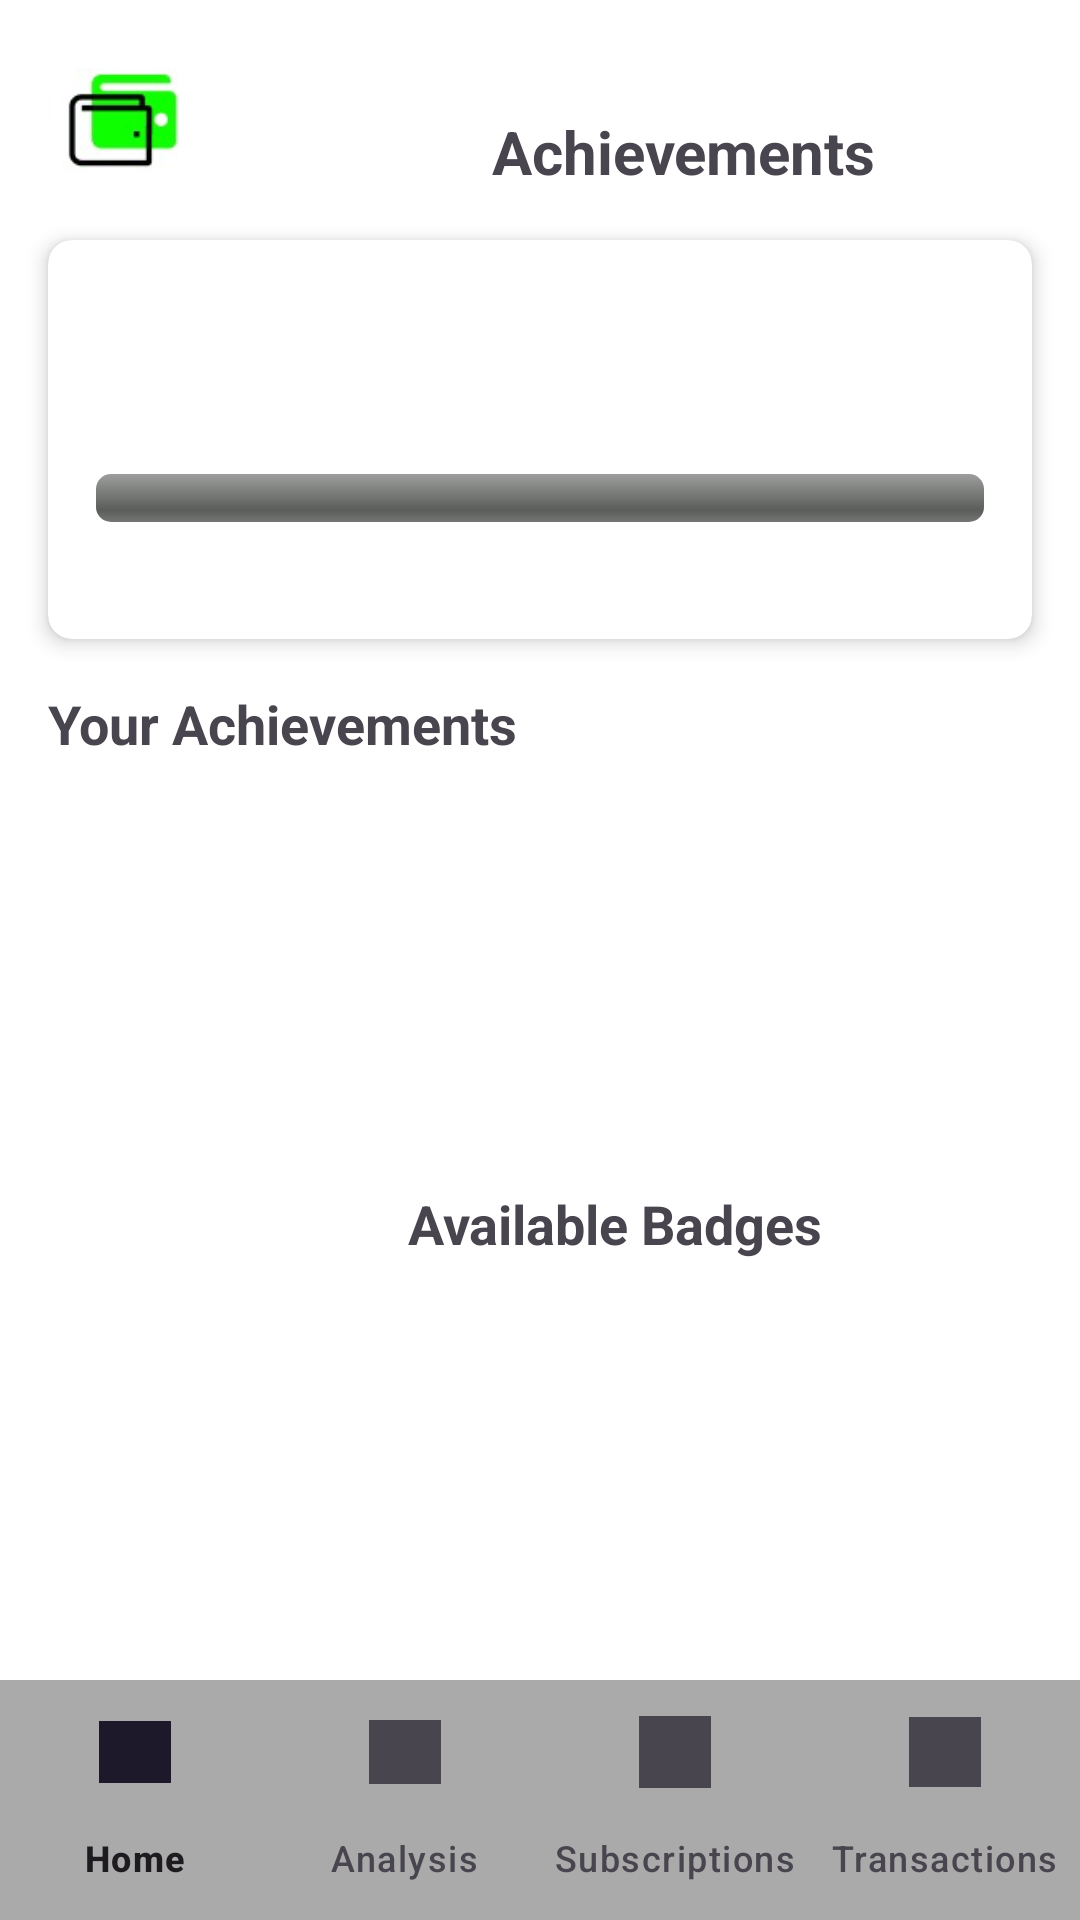

Screen size 1080px x 1920px. Icon name, then its center in pixels as point (x, y):
wallet: point (123, 120)
